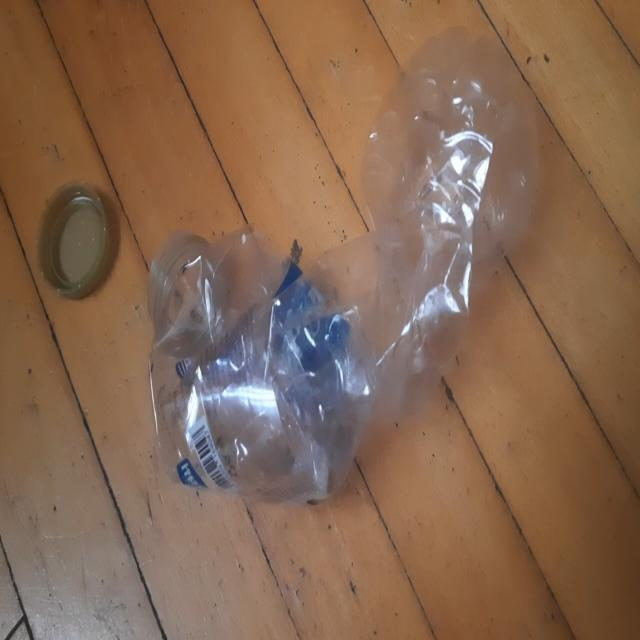Plastic: (148, 25, 540, 504)
